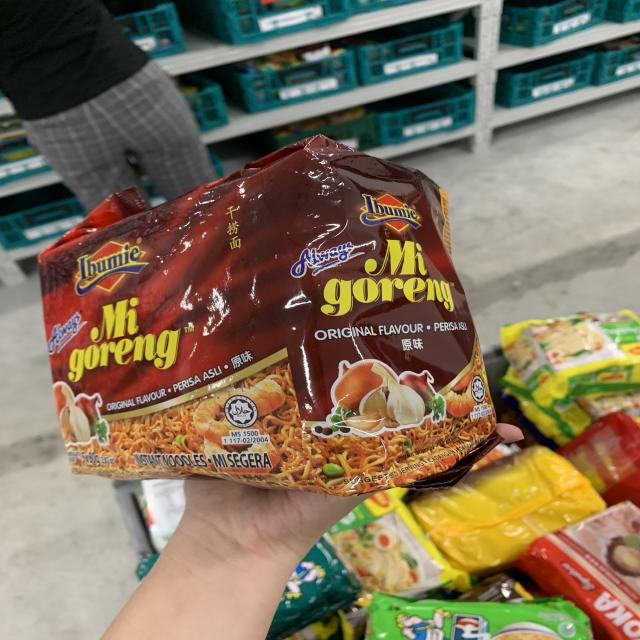object_name: (38, 200, 475, 477)
